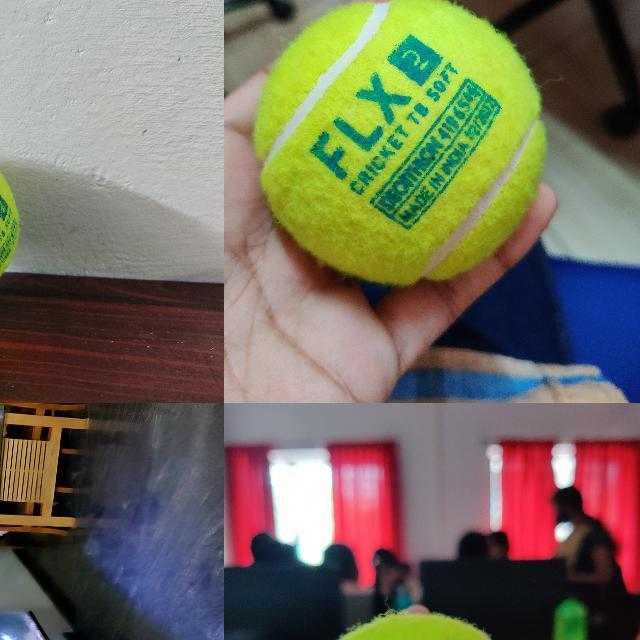tennis-ball: (255, 0, 545, 285)
